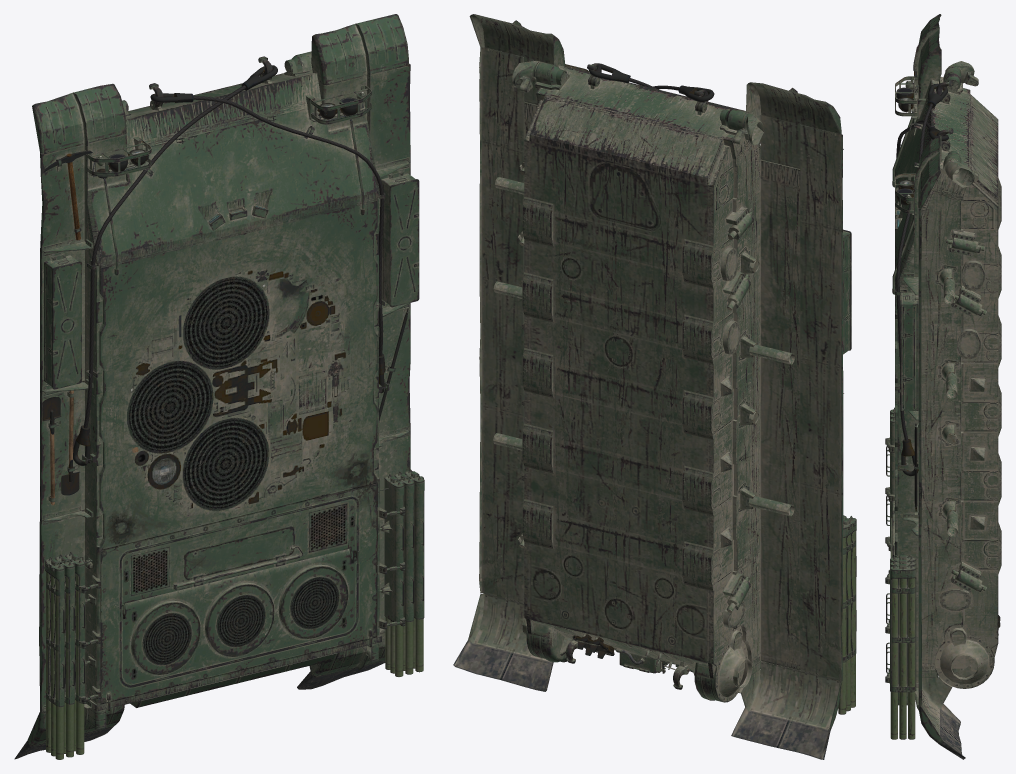
Rendered from Hull.glb.
The picture shows the model from 3 angles, left to right: view 1: azimuth 30°, elevation 25°; view 2: azimuth 150°, elevation 25°; view 3: azimuth 270°, elevation 25°; orthographic projection. The views are drawn at different scales.
Visible parts, largest first — view 1: set_0_group_0; view 2: set_0_group_0; view 3: set_0_group_0.
Boxes of the visible parts, x1,y1,x2,y2 form: set_0_group_0: (14,14,424,759); set_0_group_0: (453,14,856,759); set_0_group_0: (885,14,1001,759).
Size of the model in its own units: 4.12 by 6.98 by 1.24.
Materials: 1 (1 with a texture image).
